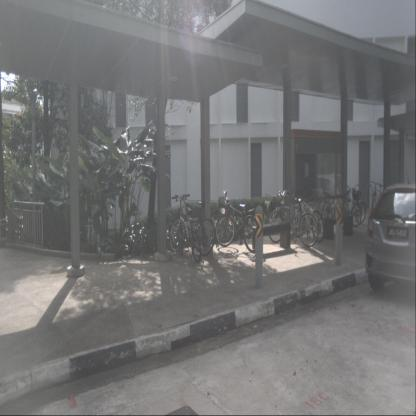human-pedestrian-adult: (311, 188, 318, 205), (307, 189, 313, 205)
vehicle-car: (364, 182, 416, 292)
